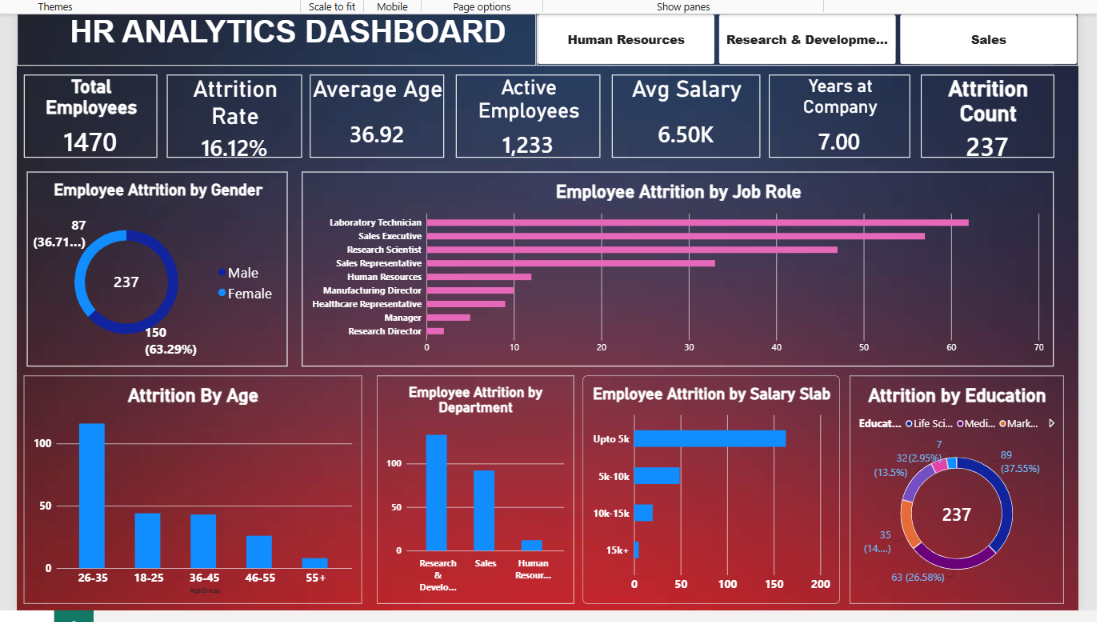

Layout of this report page (visuals, bound fields, positions):
{"tool":"powerbi","page":{"name":"Page 1","canvas":[1920,1080],"ordinal":0},"visuals":[{"type":"cardVisual","title":"Total Employees ","fields":{"Data":["HR_Analytics.Total employees"]},"box":[12.7,110.7,241.4,150.7],"z":0},{"type":"cardVisual","title":"Attrition Count","fields":{"Data":["HR_Analytics.Attrition Count"]},"box":[1635.4,110.7,241.4,150.7],"z":1000},{"type":"cardVisual","title":"Attrition Rate","fields":{"Data":["HR_Analytics.Attrition Rate"]},"box":[272.3,110.7,245,150.7],"z":2000},{"type":"donutChart","title":"Attrition by Education","fields":{"Category":["HR_Analytics.EducationField"],"Y":["Count(HR_Analytics.EmpID)"]},"box":[1507.4,655.1,387.3,412.6],"z":7000},{"type":"clusteredColumnChart","title":"Attrition By Age","fields":{"Category":["HR_Analytics.AgeGroup"],"Y":["Count(HR_Analytics.EmpID)"]},"box":[12.7,655.1,611.7,412.6],"z":8000},{"type":"clusteredBarChart","title":"Employee Attrition by Salary Slab","fields":{"Category":["HR_Analytics.SalarySlab"],"Y":["Count(HR_Analytics.EmpID)"]},"box":[1024.3,655.1,465.1,412.6],"z":9000},{"type":"clusteredColumnChart","title":"Employee Attrition by Department","fields":{"Category":["HR_Analytics.Department"],"Y":["Count(HR_Analytics.EmpID)"]},"box":[651.5,655.1,356.5,412.6],"z":9001},{"type":"donutChart","title":"Employee Attrition by Gender","fields":{"Category":["HR_Analytics.Gender"],"Y":["Count(HR_Analytics.EmpID)"]},"box":[18.1,285.9,472.3,352.9],"z":9002},{"type":"clusteredBarChart","title":"Employee Attrition by Job Role","fields":{"Category":["HR_Analytics.JobRole"],"Y":["Count(HR_Analytics.EmpID)"]},"box":[515.8,285.9,1360.9,352.9],"z":9003},{"type":"textbox","box":[0,0,940.2,94.4],"z":9004},{"type":"advancedSlicerVisual","fields":{"Values":["HR_Analytics.Department"]},"box":[940.2,0,980.2,94.4],"z":9005},{"type":"cardVisual","title":"Average Age","fields":{"Data":["HR_Analytics.Average Age"]},"box":[530,110.7,243.2,150.7],"z":9006},{"type":"cardVisual","title":"Active Employees","fields":{"Data":["HR_Analytics.Active Employees Display"]},"box":[795,110.7,261.4,150.7],"z":9007},{"type":"cardVisual","title":"Avg Salary","fields":{"Data":["HR_Analytics.Average Salary"]},"box":[1076.4,110.7,268.6,150.7],"z":9008},{"type":"cardVisual","title":"Years at Company","fields":{"Data":["HR_Analytics.Years at Company"]},"box":[1361.3,110.7,255.9,150.7],"z":9009}]}

Visuals, with their boxes in screenshot pixels (x1, y1, x2, y2):
"Total Employees " cardVisual: locate(13, 71, 149, 156)
"Attrition Count" cardVisual: locate(927, 71, 1063, 156)
"Attrition Rate" cardVisual: locate(159, 71, 297, 156)
"Attrition by Education" donutChart: locate(855, 378, 1073, 610)
"Attrition By Age" clusteredColumnChart: locate(13, 378, 358, 610)
"Employee Attrition by Salary Slab" clusteredBarChart: locate(583, 378, 845, 610)
"Employee Attrition by Department" clusteredColumnChart: locate(373, 378, 574, 610)
"Employee Attrition by Gender" donutChart: locate(16, 170, 282, 369)
"Employee Attrition by Job Role" clusteredBarChart: locate(296, 170, 1063, 369)
textbox: locate(6, 9, 535, 62)
advancedSlicerVisual - HR_Analytics.Department: locate(535, 9, 1088, 62)
"Average Age" cardVisual: locate(304, 71, 441, 156)
"Active Employees" cardVisual: locate(454, 71, 601, 156)
"Avg Salary" cardVisual: locate(612, 71, 764, 156)
"Years at Company" cardVisual: locate(773, 71, 917, 156)
